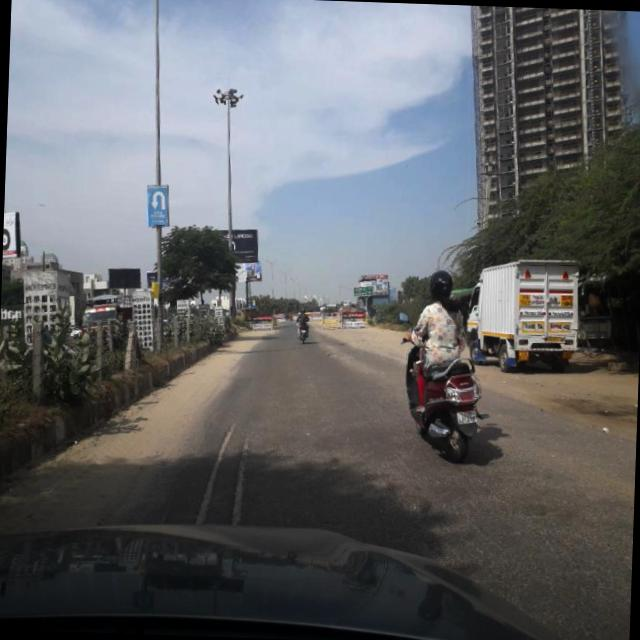crack: (326, 432, 628, 640)
pothole: (188, 399, 232, 526), (229, 418, 265, 524)
